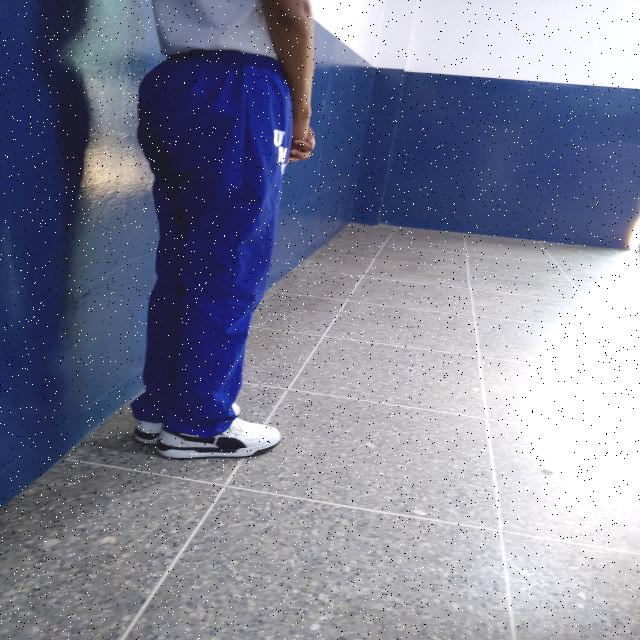uniforme_superior: (128, 49, 294, 438)
